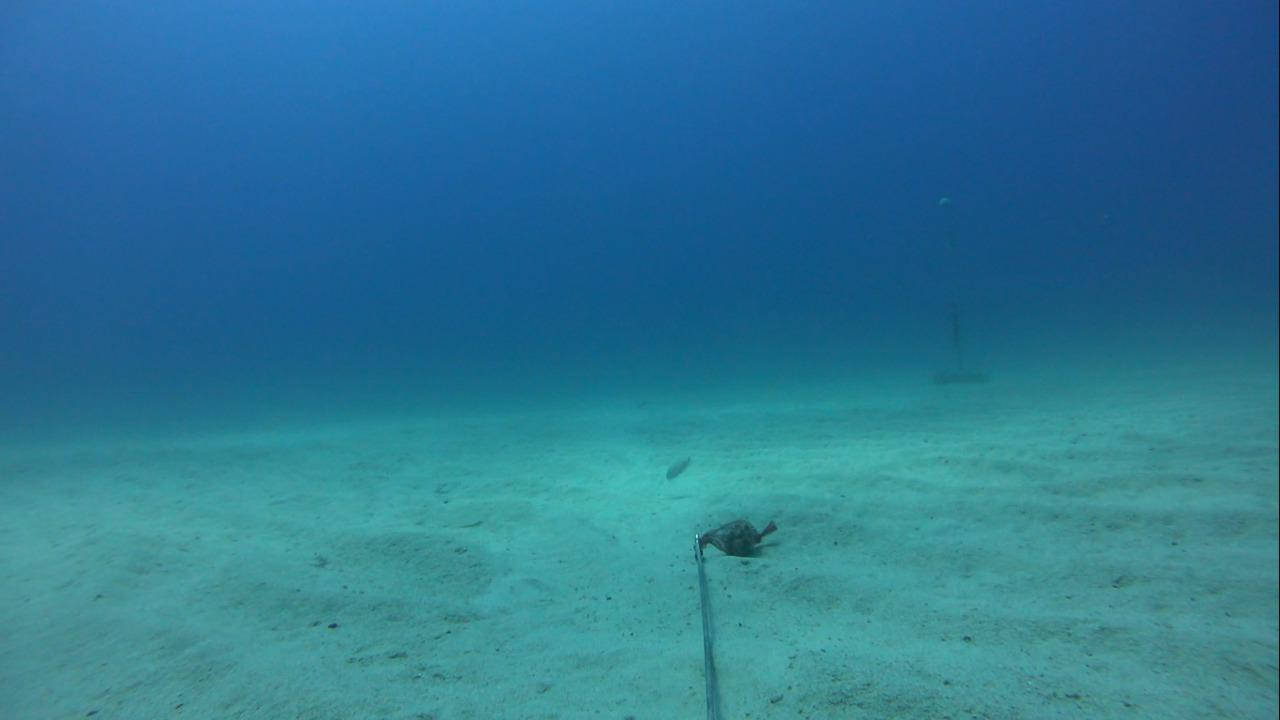raor: (656, 450, 697, 486)
